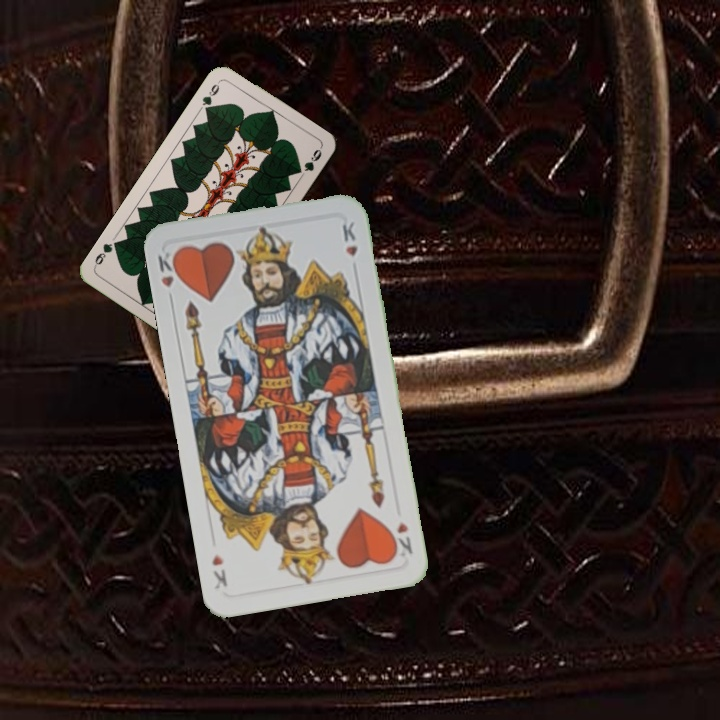G9: (198, 77, 222, 116)
HK: (153, 248, 184, 306), (386, 518, 415, 559)
